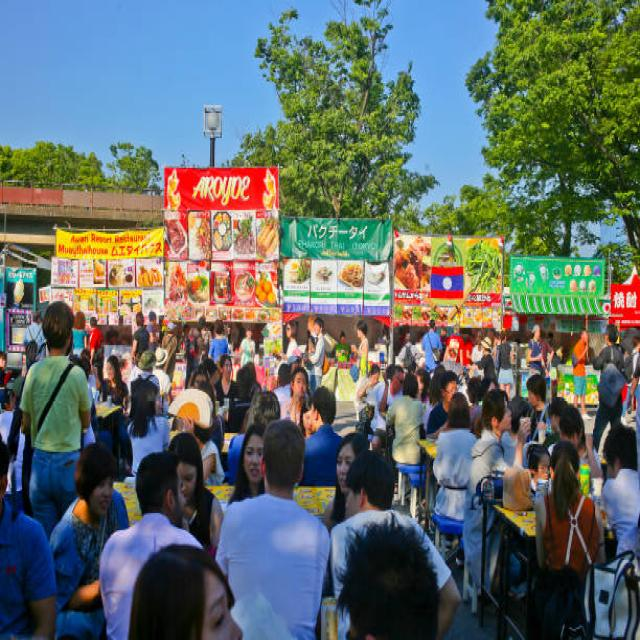Emperan: (155, 162, 281, 382), (46, 206, 168, 402), (273, 207, 395, 397), (381, 217, 518, 382), (506, 234, 612, 427)
